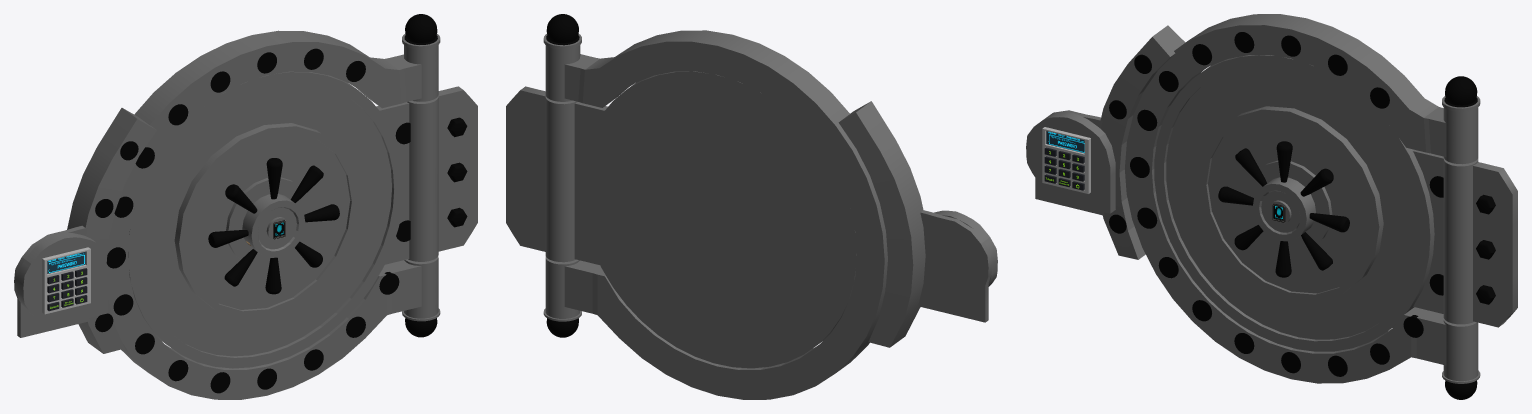
The model's file is vault-door.glb.
The picture shows the model from 3 angles, left to right: view 1: azimuth 30°, elevation 25°; view 2: azimuth 150°, elevation 25°; view 3: azimuth 330°, elevation 25°; orthographic projection.
Visible parts, largest first — view 1: pCylinder6_Black_Metal_0; view 2: pCylinder6_Black_Metal_0; view 3: pCylinder6_Black_Metal_0.
Part boxes in pixels (x1,y1,x2,y2): pCylinder6_Black_Metal_0: (14,14,477,399); pCylinder6_Black_Metal_0: (506,14,997,399); pCylinder6_Black_Metal_0: (1026,14,1517,399).
Size of the model in its own units: 4.61 by 3.28 by 0.536.
Materials: 5 (3 with a texture image).
